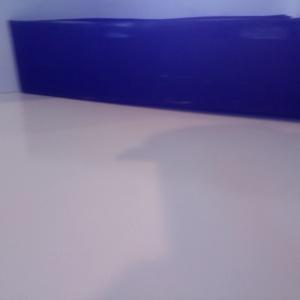zone: (9, 14, 300, 122)
